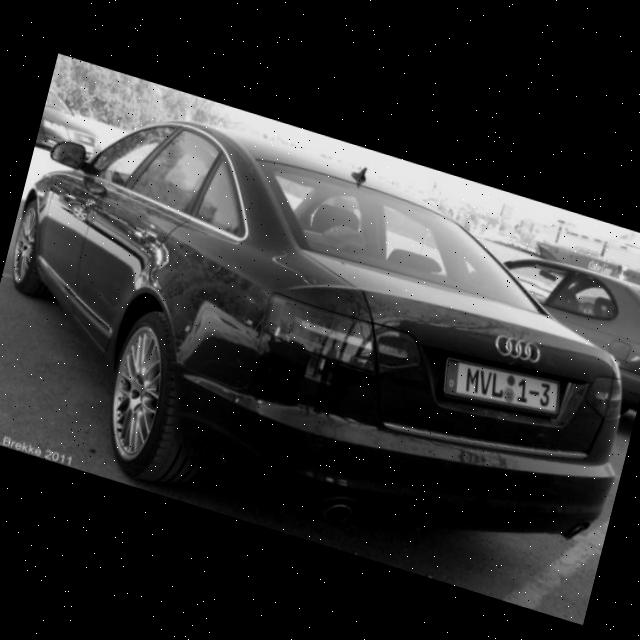license-plates: (445, 359, 558, 414)
